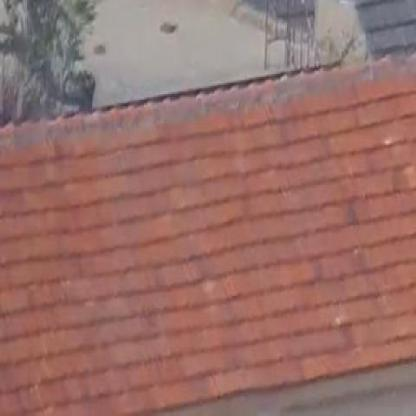other: (18, 113, 409, 370)
